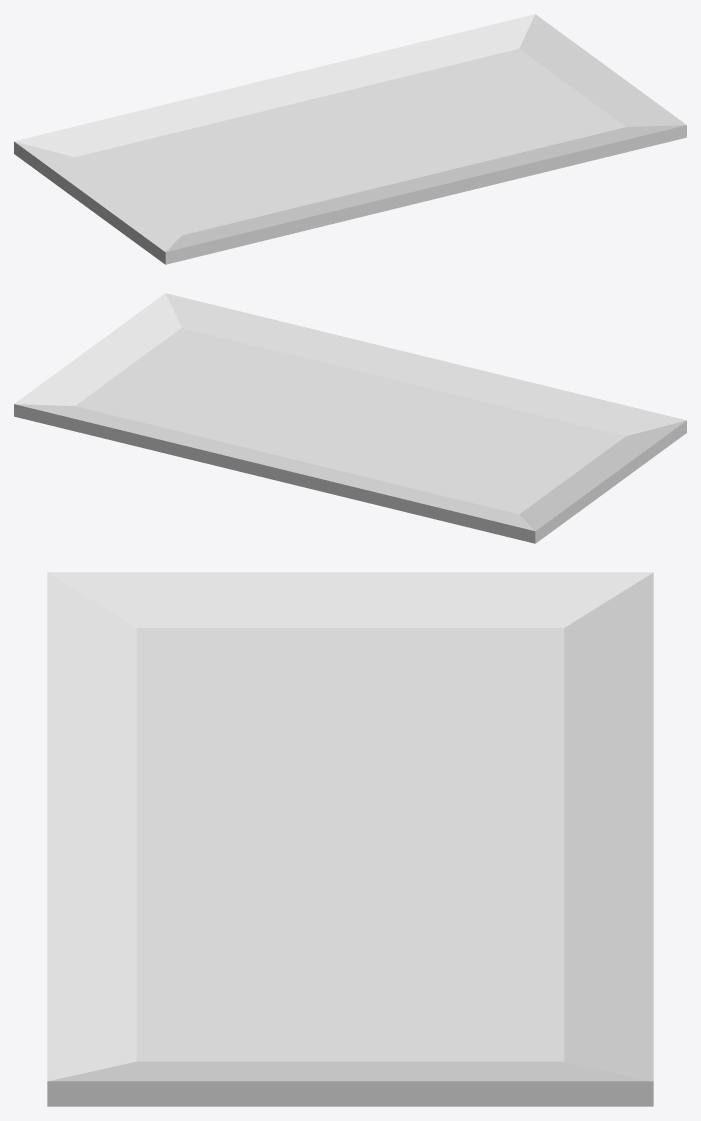
Rendered from Itr_Obj_dish4_01.FBX.
The picture shows the model from 3 angles, top to bottom: view 1: azimuth 30°, elevation 25°; view 2: azimuth 150°, elevation 25°; view 3: azimuth 270°, elevation 25°; orthographic projection. The views are drawn at different scales.
Visible parts, largest first — view 1: Itr_Obj_dish4_01; view 2: Itr_Obj_dish4_01; view 3: Itr_Obj_dish4_01.
Part boxes in pixels (box(x1,y1,x2,y2)): Itr_Obj_dish4_01: box(14, 14, 686, 264); Itr_Obj_dish4_01: box(14, 293, 686, 543); Itr_Obj_dish4_01: box(47, 572, 653, 1106).
Size of the model in its own units: 23.87 by 0.9383 by 12.01.
